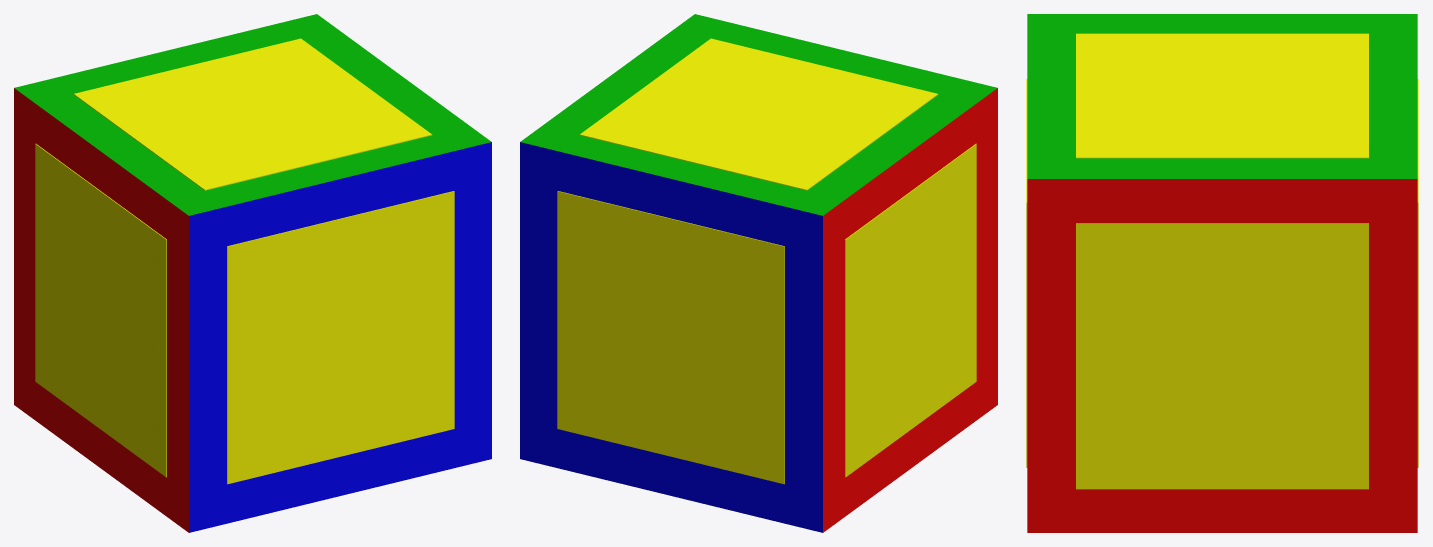
File: an_empty_cadboxx.glb
The picture shows the model from 3 angles, left to right: view 1: azimuth 30°, elevation 25°; view 2: azimuth 150°, elevation 25°; view 3: azimuth 270°, elevation 25°; orthographic projection. The views are drawn at different scales.
Parts seen in each view (by area): view 1: Object_42, Object_14, Object_47, Object_32, Object_23, Object_11; view 2: Object_37, Object_17, Object_47, Object_32, Object_23, Object_11; view 3: Object_52, Object_20, Object_32, Object_11, Object_37, Object_42.
Boxes of the visible parts, bbox=[...] form: Object_42: bbox=[227, 191, 454, 484]; Object_14: bbox=[189, 142, 491, 532]; Object_47: bbox=[35, 143, 166, 477]; Object_32: bbox=[73, 38, 432, 190]; Object_23: bbox=[14, 88, 188, 532]; Object_11: bbox=[14, 14, 491, 215]; Object_37: bbox=[557, 191, 784, 484]; Object_17: bbox=[520, 142, 822, 532]; Object_47: bbox=[845, 143, 976, 477]; Object_32: bbox=[579, 38, 938, 190]; Object_23: bbox=[823, 88, 997, 532]; Object_11: bbox=[520, 14, 997, 215]; Object_52: bbox=[1076, 223, 1368, 489]; Object_20: bbox=[1027, 179, 1417, 532]; Object_32: bbox=[1076, 33, 1368, 158]; Object_11: bbox=[1027, 14, 1417, 178]; Object_37: bbox=[1417, 79, 1418, 467]; Object_42: bbox=[1026, 79, 1027, 467].
Size of the model in its own units: 40.2 by 40.2 by 40.2.
